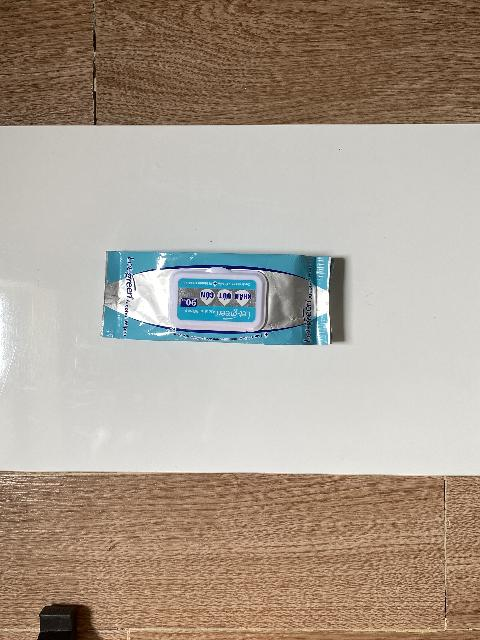Let-green_alcohol_wipes: (100, 250, 337, 346)
